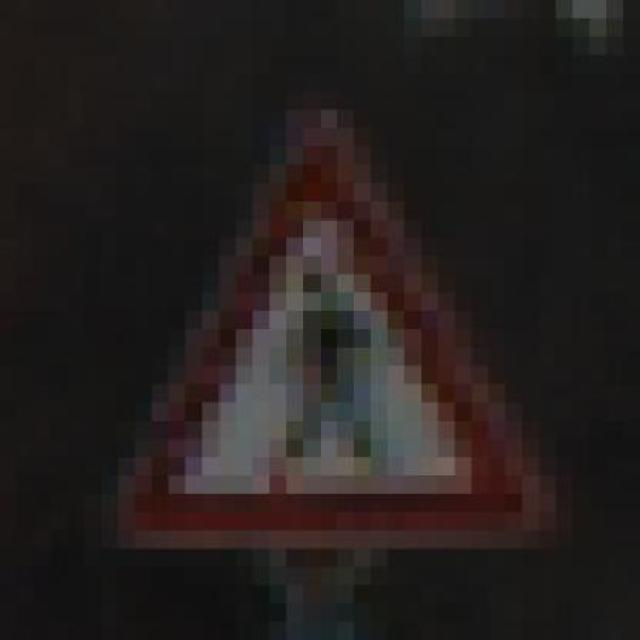Pedestrian Crossing: (84, 110, 556, 548)
